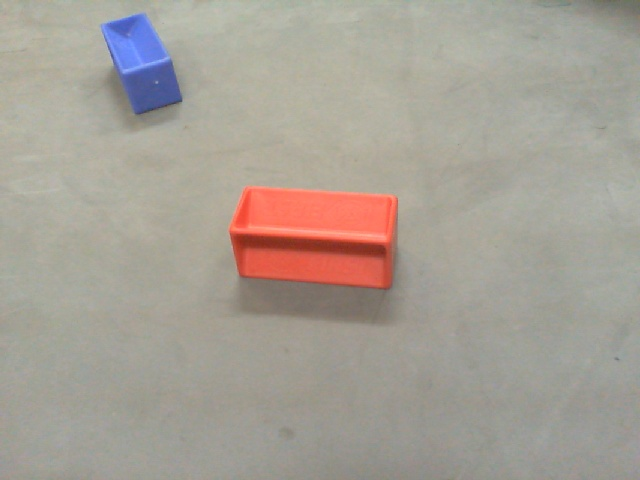BlueSample: (99, 15, 189, 114)
RedSample: (230, 183, 405, 295)
